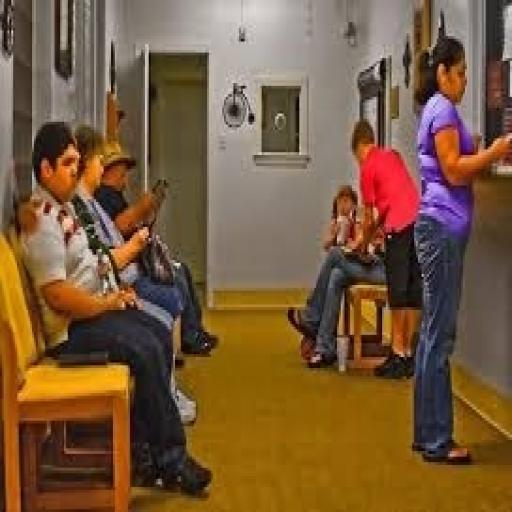sitting: (13, 116, 215, 498), (286, 116, 422, 376)
